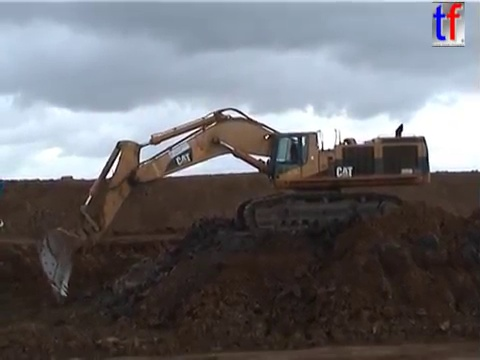excavator: (37, 105, 433, 308)
truck: (58, 173, 74, 188)
worker: (1, 217, 5, 231)
